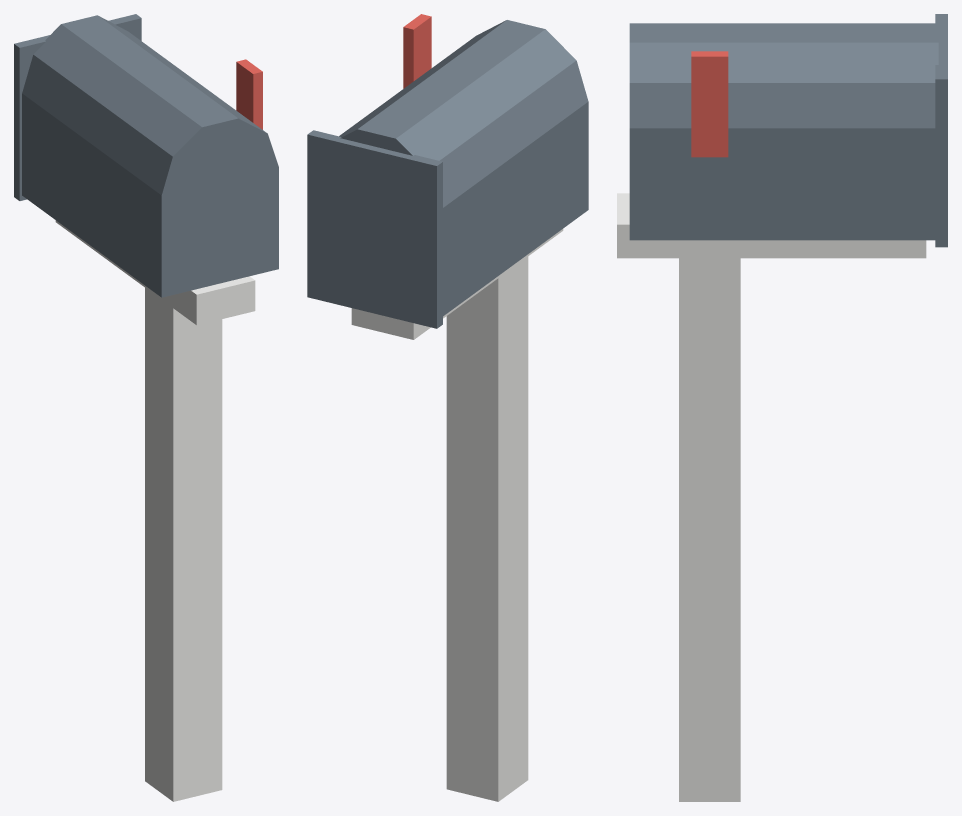
The model's file is mailbox.glb.
The picture shows the model from 3 angles, left to right: view 1: azimuth 30°, elevation 25°; view 2: azimuth 150°, elevation 25°; view 3: azimuth 270°, elevation 25°; orthographic projection. The views are drawn at different scales.
Visible parts, largest first — view 1: body; view 2: body; view 3: body.
Part boxes in pixels (x1,y1,x2,y2): body: (14, 14, 278, 801); body: (307, 14, 588, 801); body: (617, 14, 947, 801).
Bounding box in the file's own units: 0.27 × 1.38 × 0.535.
